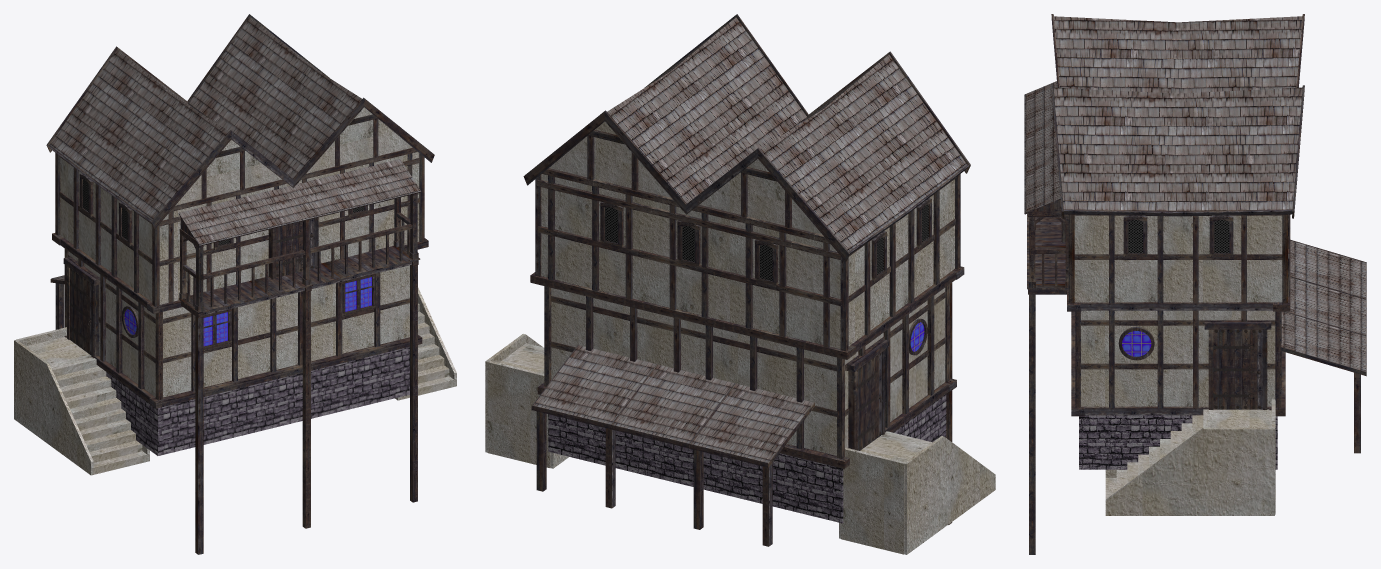
Rendered from house30.dae.
3 renders of one model, left to right at view 1: azimuth 30°, elevation 25°; view 2: azimuth 150°, elevation 25°; view 3: azimuth 270°, elevation 25°, orthographic. The views are drawn at different scales.
Visible parts, largest first — view 1: House3_Roof, House3_Level2, House3_Level1, House3_Level0, House3_Level2_Beams, Balcony1Roof, House3_Level1_Beams, Stair1Wide, Balcony1, Balcony1Stilts, Stair1Wide2, House3_Roof_Frame (+13 smaller); view 2: House3_Roof, House3_Level2, House3_Level2_Beams, House3_Level1, House3_Level0, House3_Level1_Beams, Stair1Wide2, House3_Roof_Frame, Stair1WideBack, Roof2Outer, Roof2Outer_001, Roof2Outer_002 (+14 smaller); view 3: House3_Roof, House3_Level2, Stair1Wide1_001, House3_Level1, House3_Level1_Beams, House3_Level0, House3_Level2_Beams, Door1_001, Balcony1Roof, Balcony1, Roof2Outer, Stair1Wide_001 (+14 smaller).
Boxes of the visible parts, <box> form: House3_Roof: <box>50,17,361,219</box>; House3_Level2: <box>60,107,419,304</box>; House3_Level1: <box>68,251,409,397</box>; House3_Level0: <box>106,347,409,455</box>; House3_Level2_Beams: <box>55,114,424,306</box>; Balcony1Roof: <box>179,159,420,245</box>; House3_Level1_Beams: <box>64,248,409,400</box>; Stair1Wide: <box>26,337,147,474</box>; Balcony1: <box>178,192,420,313</box>; Balcony1Stilts: <box>195,265,417,554</box>; Stair1Wide2: <box>14,339,93,475</box>; House3_Roof_Frame: <box>46,14,434,228</box>; House3_Roof: <box>607,17,966,251</box>; House3_Level2: <box>541,121,954,349</box>; House3_Level2_Beams: <box>535,130,960,351</box>; House3_Level1: <box>551,288,945,455</box>; House3_Level0: <box>548,394,946,523</box>; House3_Level1_Beams: <box>544,284,949,458</box>; Stair1Wide2: <box>904,436,995,554</box>; House3_Roof_Frame: <box>523,14,970,261</box>; Stair1WideBack: <box>841,447,905,554</box>; Roof2Outer: <box>533,345,656,424</box>; Roof2Outer_001: <box>613,364,735,443</box>; Roof2Outer_002: <box>691,384,813,462</box>; House3_Roof: <box>1053,16,1302,211</box>; House3_Level2: <box>1074,215,1282,302</box>; Stair1Wide1_001: <box>1105,427,1274,515</box>; House3_Level1: <box>1081,310,1275,406</box>; House3_Level1_Beams: <box>1075,310,1281,408</box>; House3_Level0: <box>1079,415,1277,469</box>; House3_Level2_Beams: <box>1068,214,1289,303</box>; Door1_001: <box>1213,329,1262,409</box>; Balcony1Roof: <box>1024,81,1060,213</box>; Balcony1: <box>1024,198,1068,289</box>; Roof2Outer: <box>1281,311,1365,371</box>; Stair1Wide_001: <box>1105,409,1271,499</box>.
Bounding box in the file's own units: 10.72 × 7.91 × 11.37.
18 materials, 18 textured.
